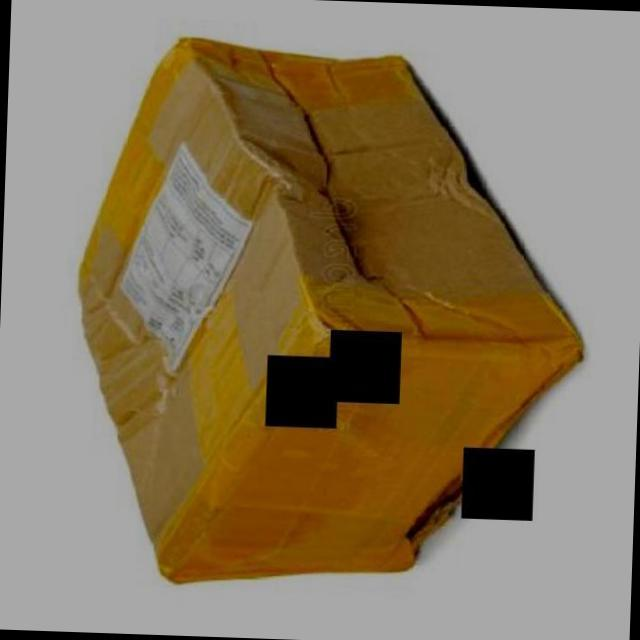box: (55, 21, 620, 600)
